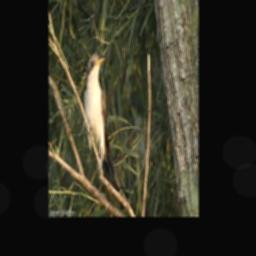Cuckoo: (83, 52, 129, 207)
